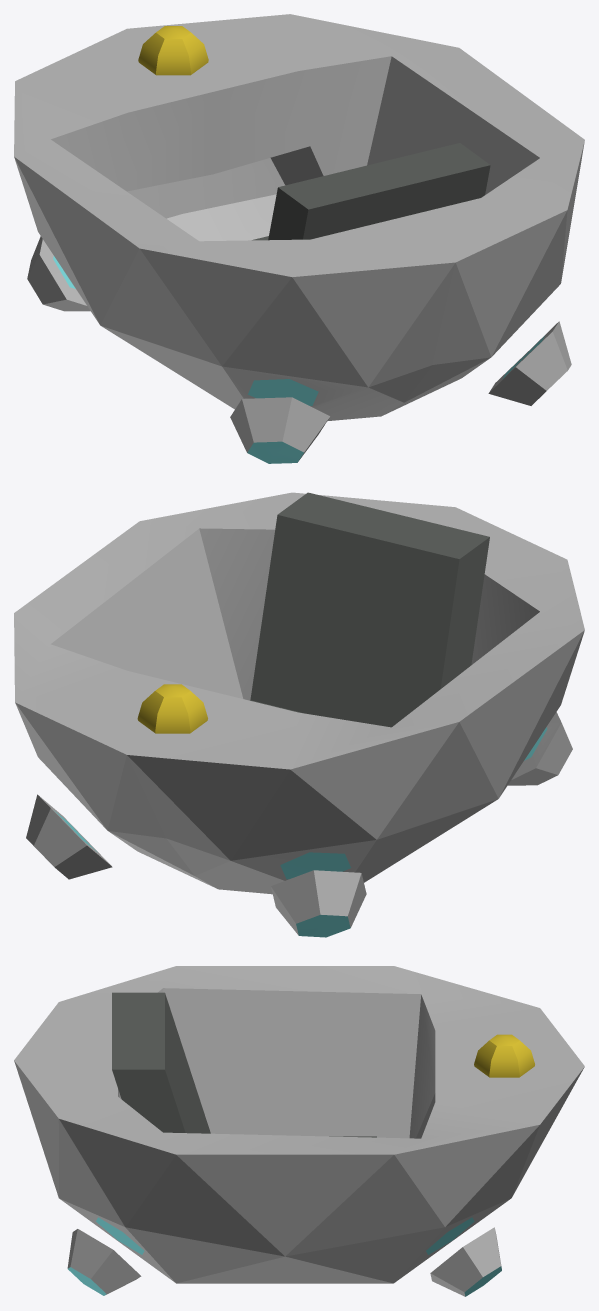
Rendered from pod-rig.glb.
The picture shows the model from 3 angles, top to bottom: view 1: azimuth 30°, elevation 25°; view 2: azimuth 150°, elevation 25°; view 3: azimuth 270°, elevation 25°; orthographic projection. The views are drawn at different scales.
Visible parts, largest first — view 1: Time Pod; view 2: Time Pod; view 3: Time Pod.
Boxes of the visible parts, x1,y1,x2,y2 form: Time Pod: (14, 14, 584, 463); Time Pod: (14, 492, 584, 937); Time Pod: (14, 966, 584, 1296).
Bounding box in the file's own units: 0.9788 × 0.5855 × 1.25.
